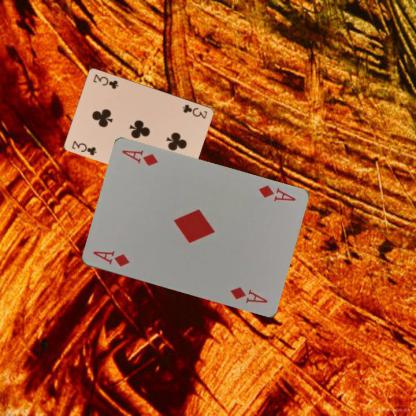3c: (70, 138, 98, 157), (180, 102, 209, 119)
Ad: (256, 182, 296, 203), (90, 248, 131, 268)
